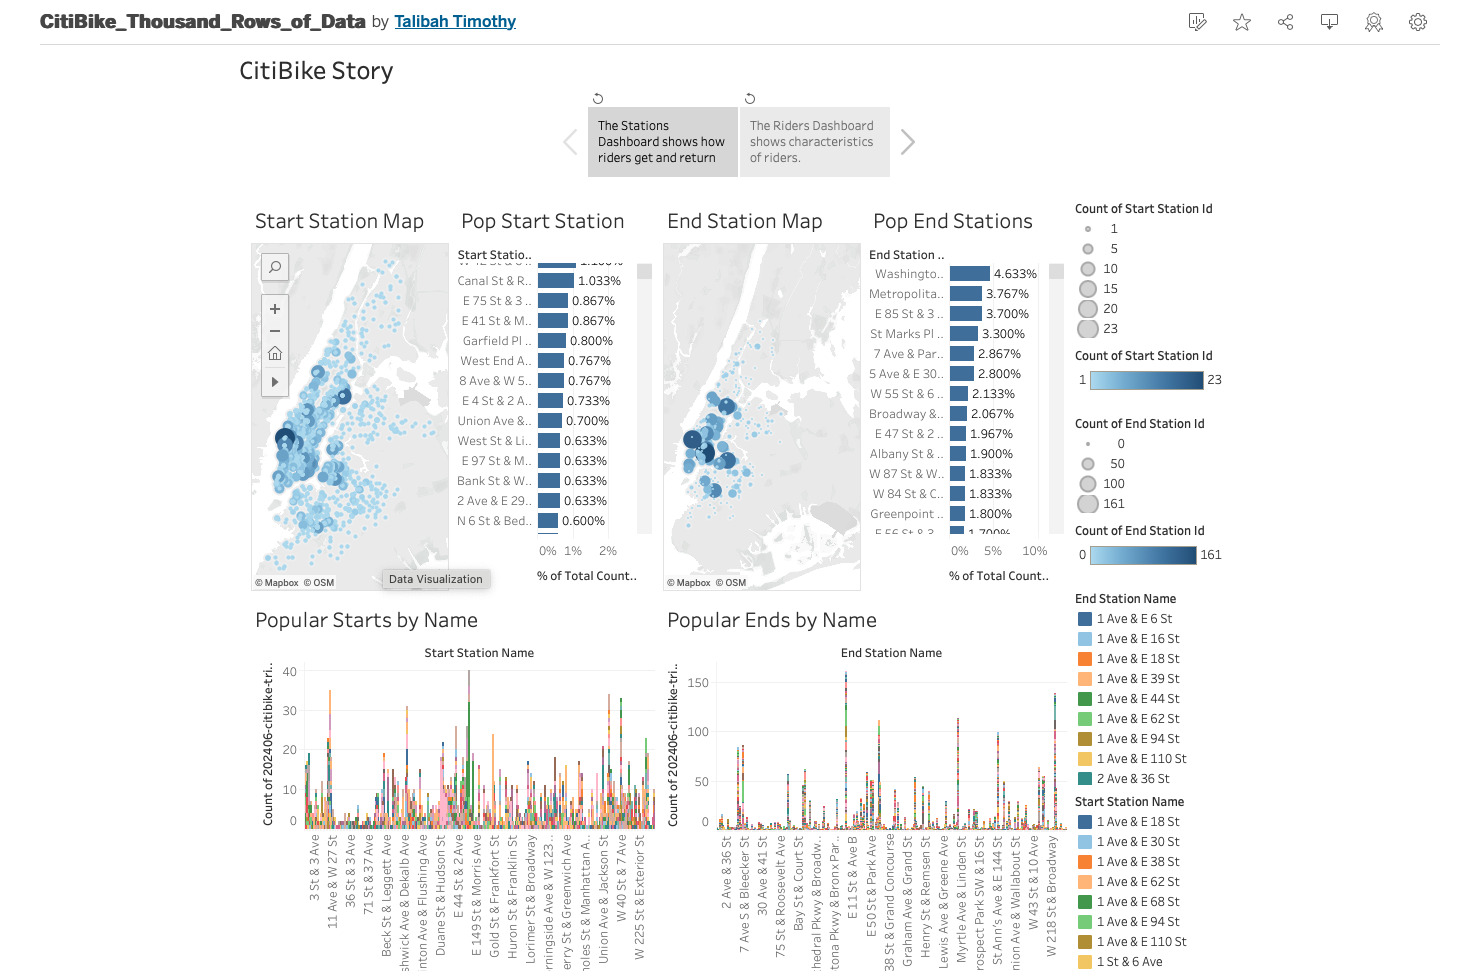

The dashboard page shown, as its layout file describes it:
{"tool":"tableau","page":{"name":"Stations Dashboard","canvas":[1000,1000],"units":"permille","ordinal":1},"visuals":[{"type":"worksheet","title":"Start Station Map","mark":"Automatic","rows":["start_lat"],"cols":["start_lng"],"box":[6.4,11.2,214.6,489.5]},{"type":"worksheet","title":"Pop Start Station","mark":"Automatic","rows":["start_station_name"],"cols":["202406-citibike-tripdata_combined.csv_EEC1912C554F43D4A937E6"],"box":[221,11.2,214.6,489.5]},{"type":"worksheet","title":"End Station Map","mark":"Automatic","rows":["end_lat"],"cols":["end_lng"],"box":[435.6,11.2,214.6,488.8]},{"type":"worksheet","title":"Pop End Stations","mark":"Automatic","rows":["end_station_name"],"cols":["202406-citibike-tripdata_combined.csv_EEC1912C554F43D4A937E6"],"box":[650.2,11.2,214.6,488.8]},{"type":"legend","title":"Start Station Map","param":"[federated.1eug51w1a7snwj1688t5202lmfl5].[cnt:start_station_id:qk]","box":[864.8,11.2,128.7,203.6]},{"type":"legend","title":"Start Station Map","param":"[federated.1eug51w1a7snwj1688t5202lmfl5].[cnt:start_station_id:qk]","box":[864.8,214.8,128.7,90.7]},{"type":"legend","title":"End Station Map","param":"[federated.1eug51w1a7snwj1688t5202lmfl5].[cnt:end_station_id:qk]","box":[864.8,305.4,128.7,147.8]},{"type":"legend","title":"End Station Map","param":"[federated.1eug51w1a7snwj1688t5202lmfl5].[cnt:end_station_id:qk]","box":[864.8,453.3,128.7,90.7]},{"type":"worksheet","title":"Popular Ends","mark":"Automatic","rows":["202406-citibike-tripdata_combined.csv_EEC1912C554F43D4A937E6"],"cols":["end_station_name"],"box":[435.6,500,429.2,488.8]},{"type":"worksheet","title":"Popular Starts","mark":"Automatic","rows":["202406-citibike-tripdata_combined.csv_EEC1912C554F43D4A937E6"],"cols":["start_station_name"],"box":[6.4,500.7,429.2,488.1]},{"type":"legend","title":"Popular Starts","param":"[federated.1eug51w1a7snwj1688t5202lmfl5].[none:end_station_name:nk]","box":[864.8,544,128.7,222.4]},{"type":"legend","title":"Popular Ends","param":"[federated.1eug51w1a7snwj1688t5202lmfl5].[none:start_station_name:nk]","box":[864.8,766.4,128.7,222.5]}]}

Visuals, with their boxes on the dashboard's canvas, which has no fixed pixel size, in thousandths of its width and height (x1, y1, x2, y2). These are canvas units, not pixel positions in the 1461x971 screenshot, which may show the page scaled, cropped or inside an application window:
"Start Station Map" worksheet: left=6, top=11, right=221, bottom=501
"Pop Start Station" worksheet: left=221, top=11, right=436, bottom=501
"End Station Map" worksheet: left=436, top=11, right=650, bottom=500
"Pop End Stations" worksheet: left=650, top=11, right=865, bottom=500
"Start Station Map" legend: left=865, top=11, right=994, bottom=215
"Start Station Map" legend: left=865, top=215, right=994, bottom=306
"End Station Map" legend: left=865, top=305, right=994, bottom=453
"End Station Map" legend: left=865, top=453, right=994, bottom=544
"Popular Ends" worksheet: left=436, top=500, right=865, bottom=989
"Popular Starts" worksheet: left=6, top=501, right=436, bottom=989
"Popular Starts" legend: left=865, top=544, right=994, bottom=766
"Popular Ends" legend: left=865, top=766, right=994, bottom=989
